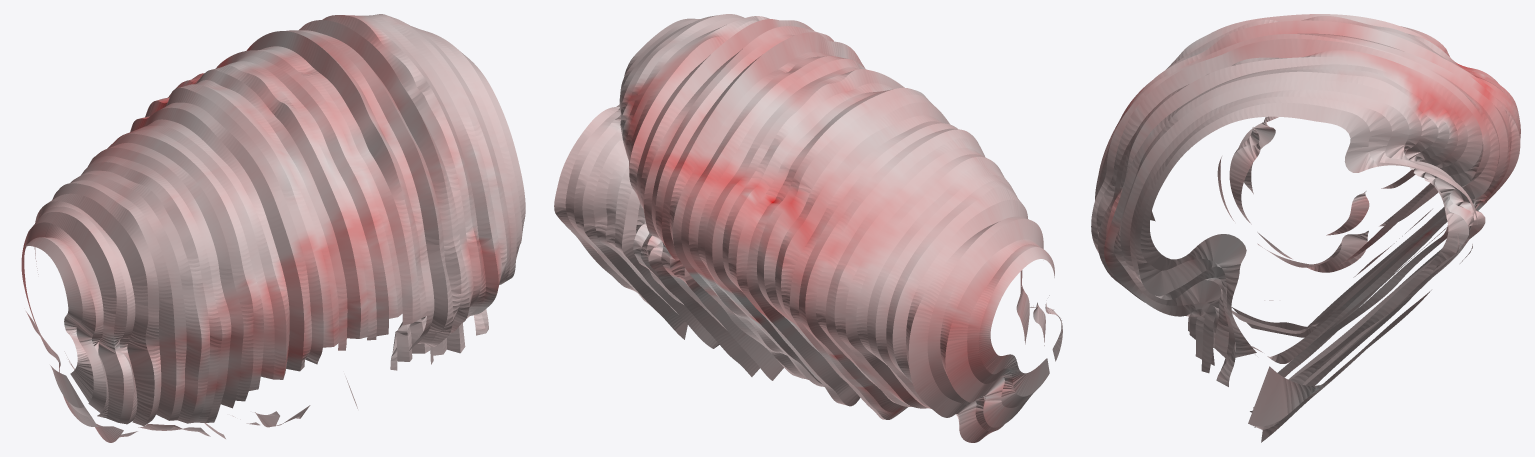
Rendered from 65_7E_id2_sj_surface_Blender_export.glb.
3 views of the same model, side by side, from view 1: azimuth 30°, elevation 25°; view 2: azimuth 150°, elevation 25°; view 3: azimuth 270°, elevation 25° (orthographic). The views are drawn at different scales.
Parts seen in each view (by area): view 1: Mesh_0; view 2: Mesh_0; view 3: Mesh_0.
Part boxes in pixels (box(x1,y1,x2,y2)): Mesh_0: box(21, 14, 525, 442); Mesh_0: box(554, 14, 1062, 442); Mesh_0: box(1091, 14, 1520, 442).
Size of the model in its own units: 5.1 by 4.3 by 4.36.
